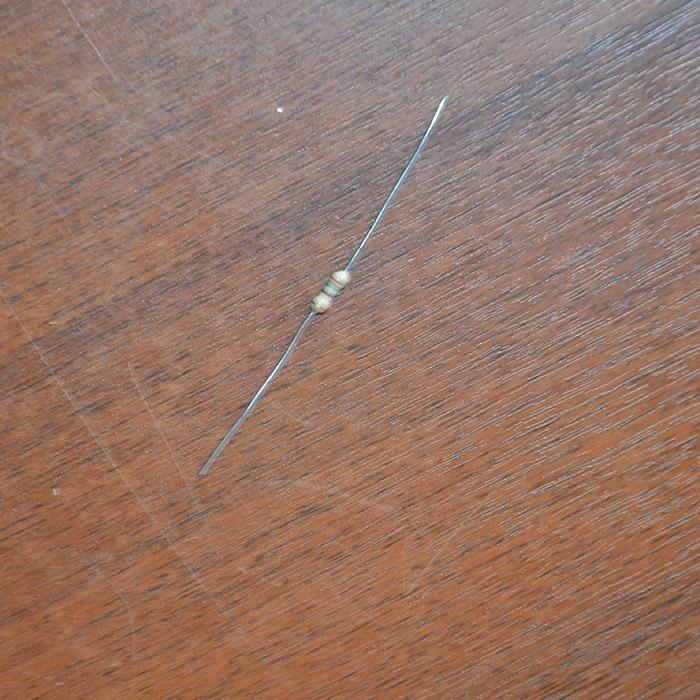resistor: (310, 269, 350, 314)
